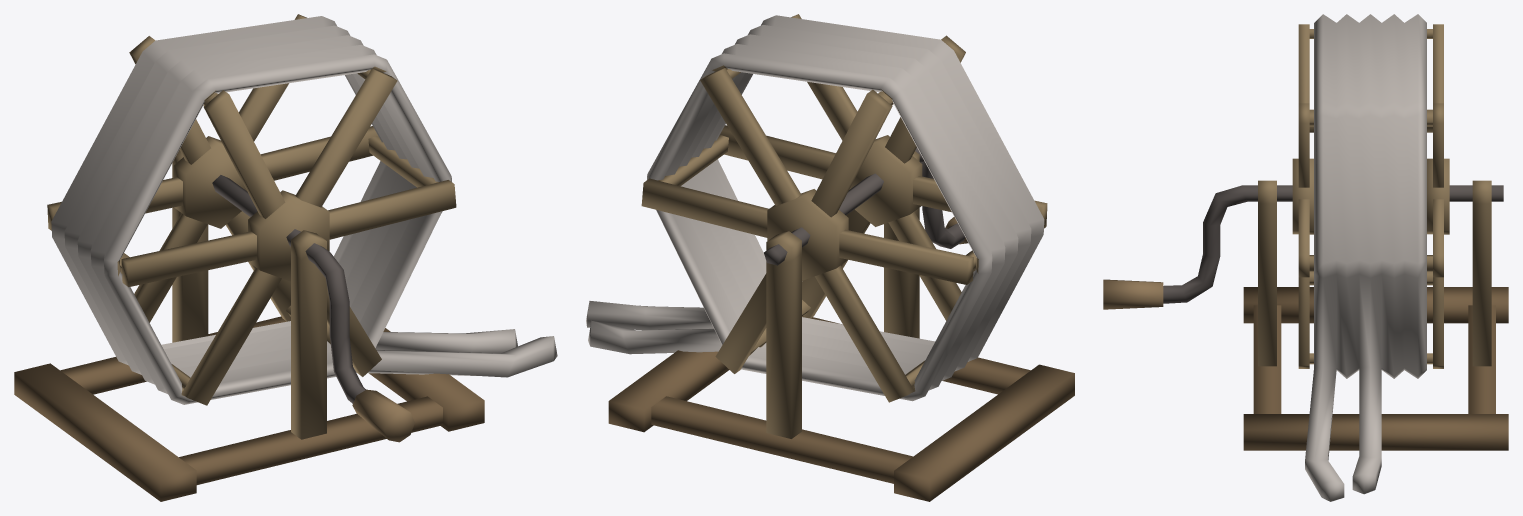
Rendered from rpgpp_ag_rope_tool_01.fbx.
3 views of the same model, side by side, from view 1: azimuth 30°, elevation 25°; view 2: azimuth 150°, elevation 25°; view 3: azimuth 270°, elevation 25° (orthographic). The views are drawn at different scales.
Visible parts, largest first — view 1: rpgpp_ag_rope_tool_01; view 2: rpgpp_ag_rope_tool_01; view 3: rpgpp_ag_rope_tool_01.
Part boxes in pixels (bbox=[...]): rpgpp_ag_rope_tool_01: bbox=[14, 14, 557, 501]; rpgpp_ag_rope_tool_01: bbox=[586, 14, 1074, 501]; rpgpp_ag_rope_tool_01: bbox=[1103, 14, 1508, 501].
Bounding box in the file's own units: 1.78 × 1.37 × 1.51.
